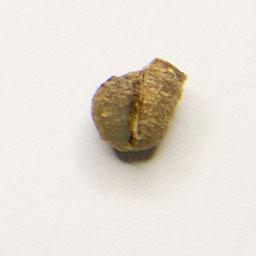defect: (87, 54, 192, 159)
